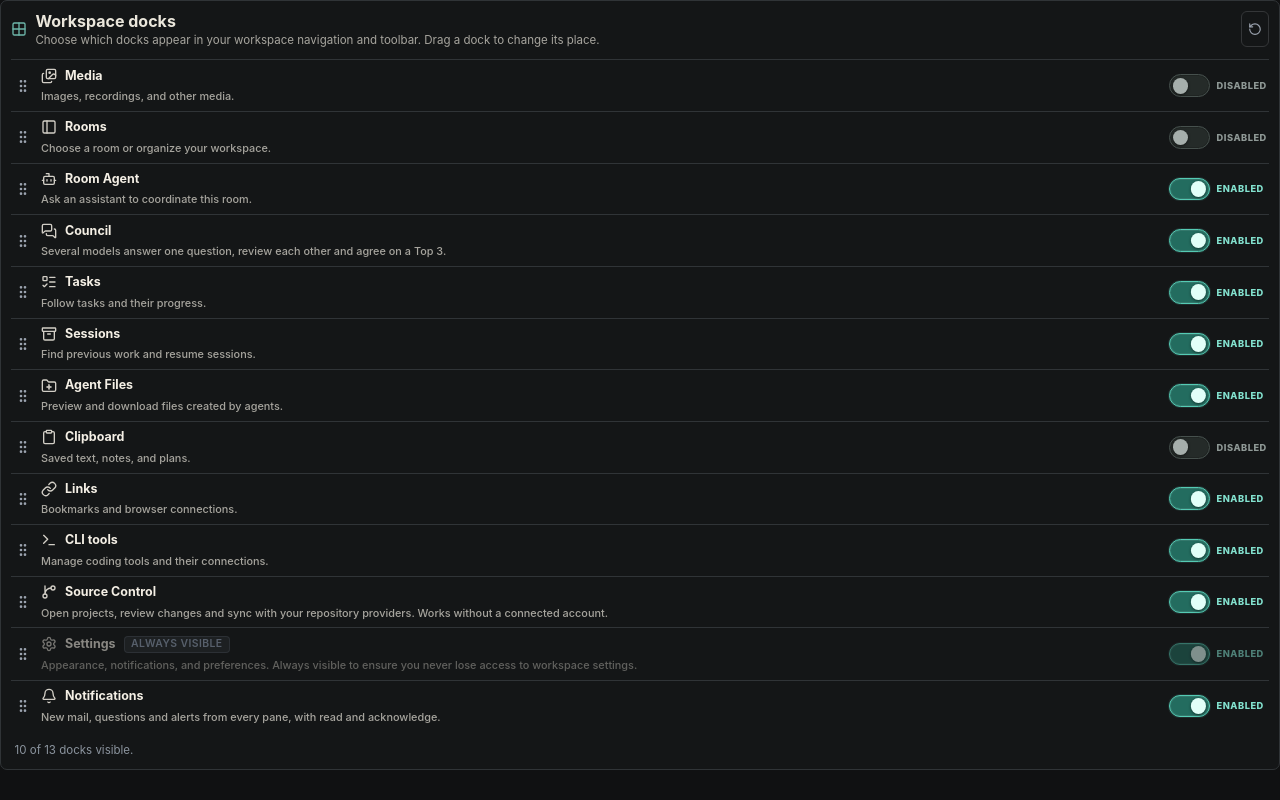
Test case: DocksSettingsCard › resets all docks to visible when the reset button is clicked
Check: the switch named "Toggle Media dock visibility" is not checked, box [41,60,1269,111]
Step 1. Click the button named "Reset dock visibility and order to defaults" → (1255, 29), box [1241,11,1269,47]
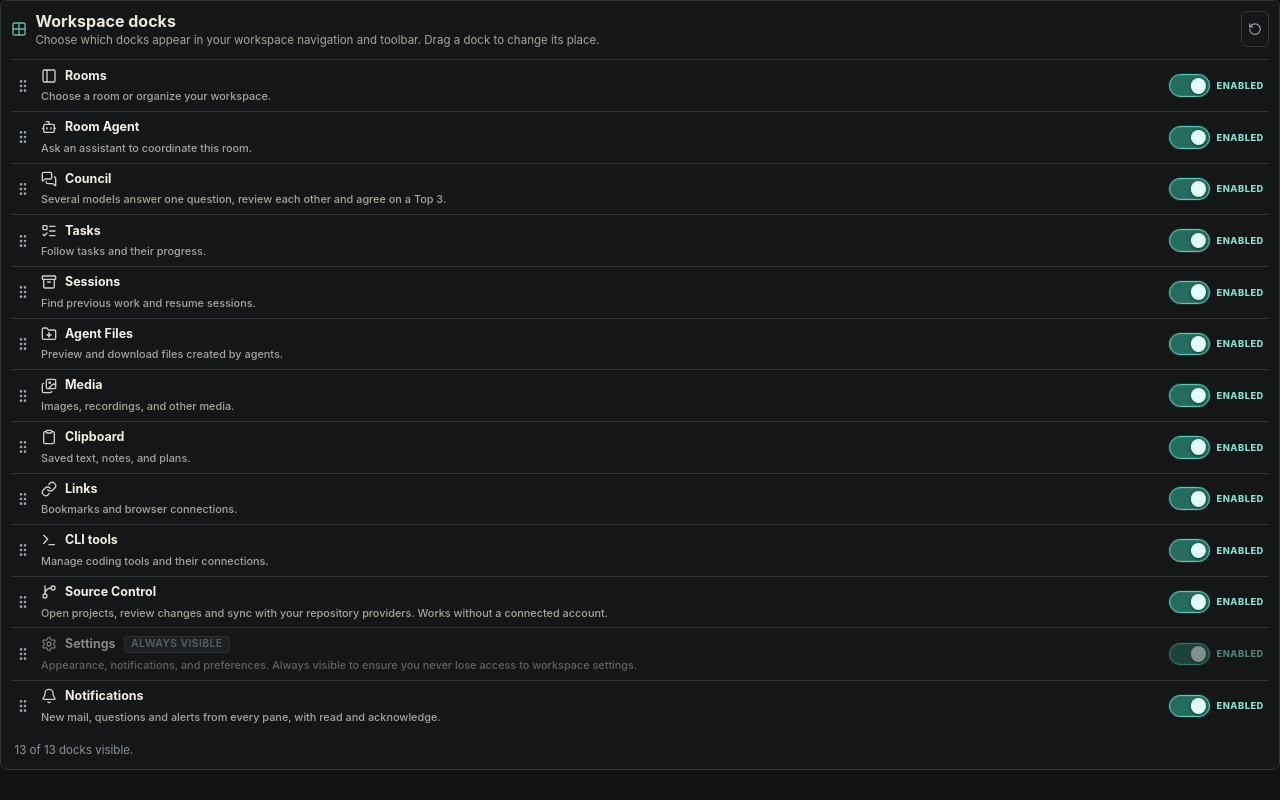
Check: the switch named "Toggle Media dock visibility" is checked, box [41,370,1269,421]
